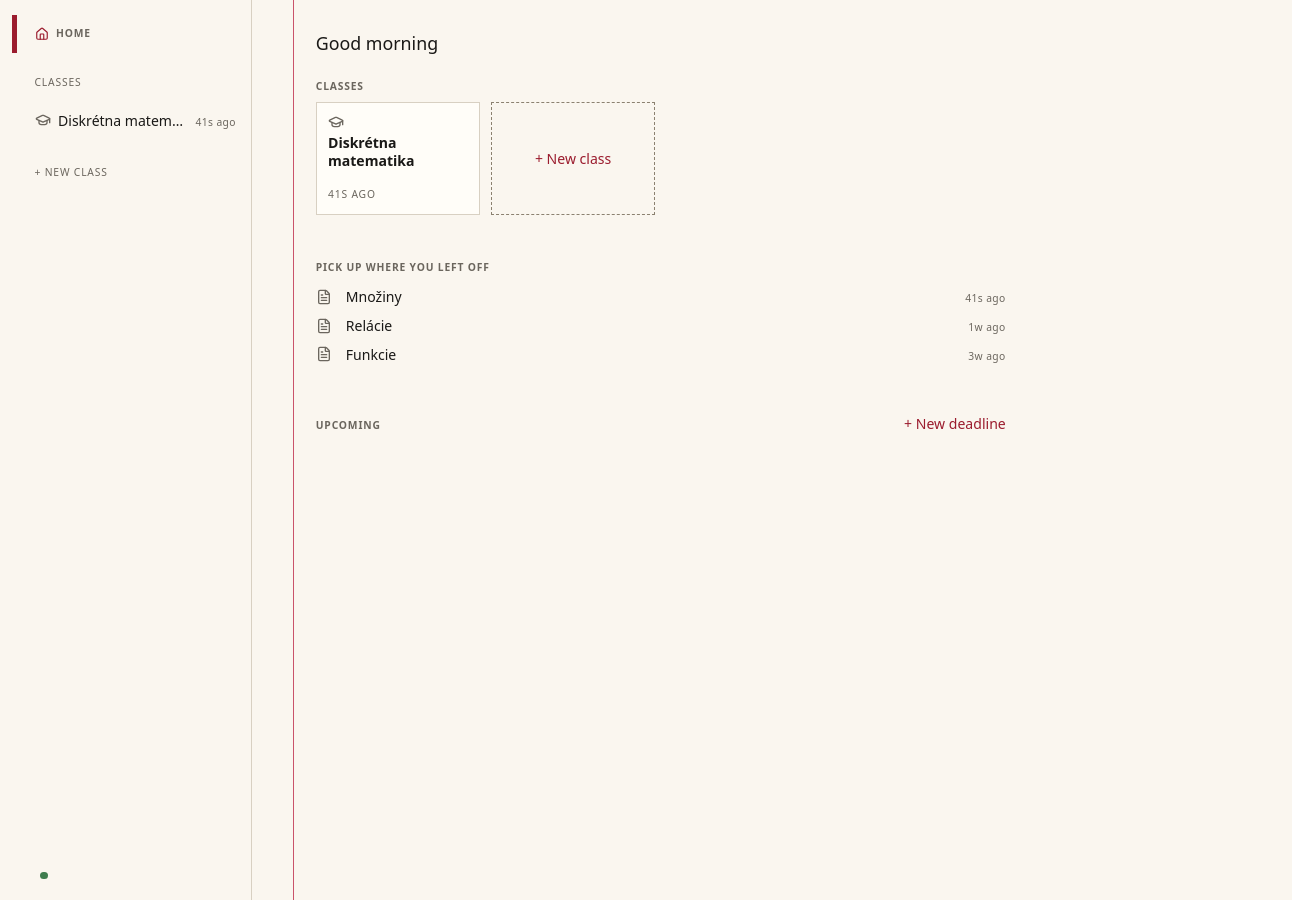
it: App two panes › shows the class page and not the editor when a class is selected
Click the 1st button "Diskrétna matematika 41s ago".
click(132, 120)  # box [12,98,251,142]
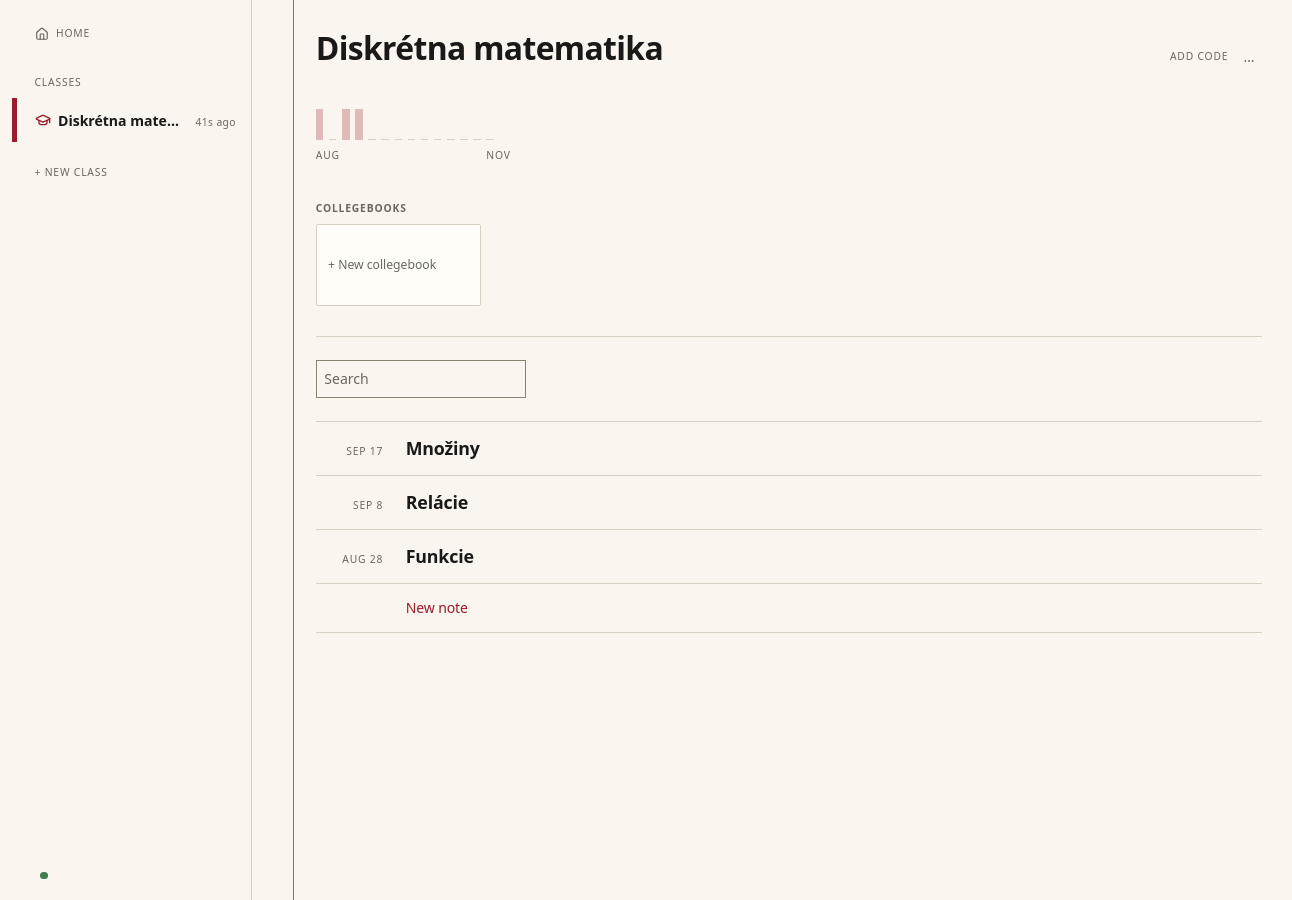
Now the heading "Diskrétna matematika" is shown, box [316,30,663,65]
Now the list named "Weeks written in" is shown, box [316,110,511,140]
